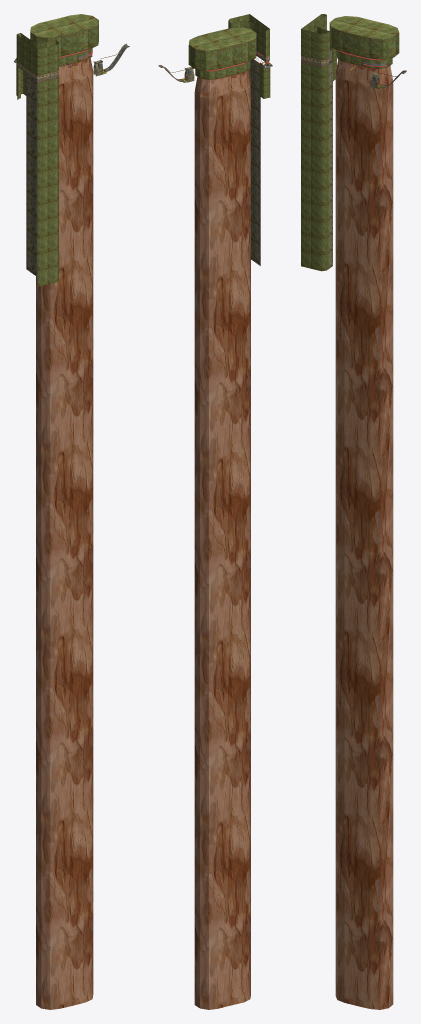
File: STG08_ON_21.obj
3 views of the same model, side by side, from view 1: azimuth 30°, elevation 25°; view 2: azimuth 210°, elevation 25°; view 3: azimuth 330°, elevation 25° (orthographic).
Visible parts, largest first — view 1: Object_2; view 2: Object_2; view 3: Object_2.
Part boxes in pixels (x1,y1,x2,y2): Object_2: [14, 14, 129, 1009]; Object_2: [158, 14, 272, 1009]; Object_2: [301, 14, 406, 1009].
Size of the model in its own units: 2890 by 27480 by 1412.
24 materials, 24 textured.
